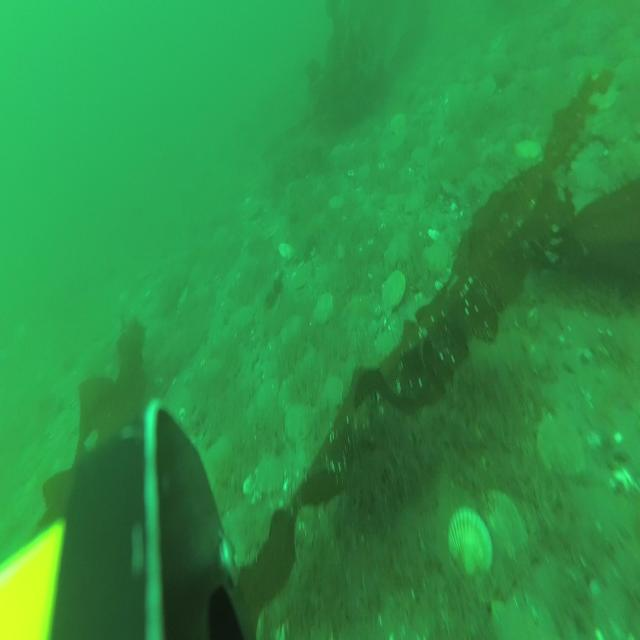scallop: (534, 412, 584, 477), (449, 506, 492, 580), (485, 485, 525, 564), (253, 454, 285, 498), (422, 236, 452, 281), (285, 398, 314, 444), (382, 269, 406, 313), (516, 137, 544, 171), (322, 374, 344, 414), (228, 306, 255, 338), (313, 294, 335, 330), (256, 376, 279, 408), (411, 144, 432, 172), (294, 261, 312, 291)
